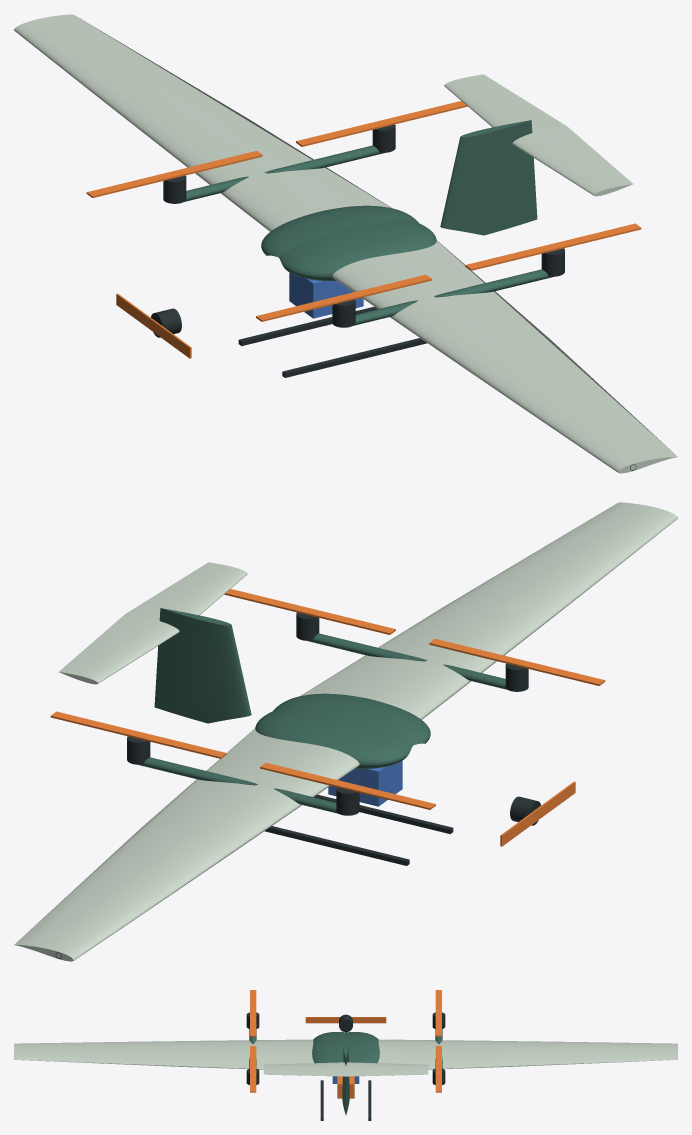
Rendered from surface_tools-11-internal.glb.
The picture shows the model from 3 angles, top to bottom: view 1: azimuth 30°, elevation 25°; view 2: azimuth 150°, elevation 25°; view 3: azimuth 270°, elevation 25°; orthographic projection. The views are drawn at different scales.
Parts seen in each view (by area): view 1: wing-1, wing1, fin, root_fairing-1, tail-1, root_fairing1, tail1, boom_fairing-1, boom_fairing1, payload, prop_1_200.0, prop_-1_200.0 (+5 smaller); view 2: wing1, wing-1, fin, root_fairing1, tail1, root_fairing-1, tail-1, boom_fairing1, boom_fairing-1, payload, prop_-1_200.0, prop_1_200.0 (+5 smaller); view 3: wing-1, wing1, tail-1, tail1, root_fairing-1, root_fairing1, cruise_prop, fin, prop_-1_200.0, prop_-1_700.0, prop_1_200.0, prop_1_700.0 (+1 smaller).
Part boxes in pixels (<box>): wing-1: <box>332,240,677,473</box>; wing1: <box>14,14,391,231</box>; fin: <box>440,120,537,235</box>; root_fairing-1: <box>279,220,436,280</box>; tail-1: <box>512,126,632,196</box>; root_fairing1: <box>261,205,418,257</box>; tail1: <box>444,74,566,132</box>; boom_fairing-1: <box>353,269,553,325</box>; boom_fairing1: <box>184,145,385,201</box>; payload: <box>289,272,363,318</box>; prop_1_200.0: <box>86,150,262,197</box>; prop_-1_200.0: <box>256,274,431,321</box>; wing1: <box>14,728,359,961</box>; wing-1: <box>300,502,677,719</box>; fin: <box>154,608,251,723</box>; root_fairing1: <box>255,708,412,768</box>; tail1: <box>59,614,179,684</box>; root_fairing-1: <box>273,693,430,745</box>; tail-1: <box>125,562,247,620</box>; boom_fairing1: <box>138,757,338,813</box>; boom_fairing-1: <box>306,633,507,689</box>; payload: <box>328,760,402,806</box>; prop_-1_200.0: <box>429,638,605,685</box>; prop_1_200.0: <box>260,762,435,809</box>; wing-1: <box>14,1039,313,1069</box>; wing1: <box>378,1039,677,1069</box>; tail-1: <box>263,1062,345,1076</box>; tail1: <box>346,1062,428,1076</box>; root_fairing-1: <box>312,1032,345,1063</box>; root_fairing1: <box>346,1032,379,1063</box>; cruise_prop: <box>305,1017,386,1023</box>; fin: <box>342,1039,349,1114</box>; prop_-1_200.0: <box>250,990,256,1036</box>; prop_-1_700.0: <box>250,1046,256,1092</box>; prop_1_200.0: <box>435,990,441,1036</box>; prop_1_700.0: <box>435,1046,441,1092</box>.
Size of the model in its own units: 989 by 400 by 2500.
